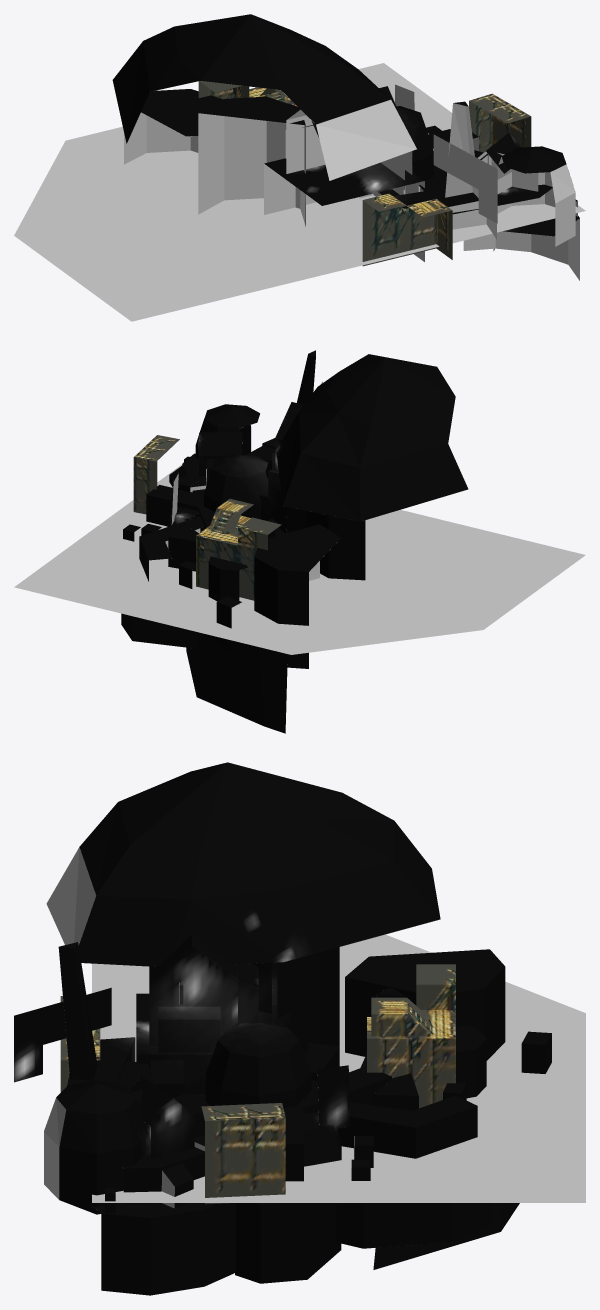
File: T_Hospital_01.fbx
3 renders of one model, top to bottom at view 1: azimuth 30°, elevation 25°; view 2: azimuth 150°, elevation 25°; view 3: azimuth 270°, elevation 25°, orthographic. The views are drawn at different scales.
Parts seen in each view (by area): view 1: T_Hospital_01, FX_Territory_NightGlow, T_BuildForm_03, T_BuildForm_02 (2), T_BuildForm_01; view 2: FX_Territory_NightGlow, T_Hospital_01, T_BuildForm_01, T_BuildForm_02 (2); view 3: FX_Territory_NightGlow, T_Hospital_01, T_BuildForm_01, T_BuildForm_02 (2).
Part boxes in pixels (x1=…): T_Hospital_01: x1=14, y1=63, x2=585, y2=321; FX_Territory_NightGlow: x1=112, y1=14, x2=579, y2=250; T_BuildForm_03: x1=362, y1=193, x2=452, y2=266; T_BuildForm_02 (2): x1=469, y1=93, x2=531, y2=152; T_BuildForm_01: x1=198, y1=81, x2=297, y2=106; FX_Territory_NightGlow: x1=121, y1=350, x2=468, y2=733; T_Hospital_01: x1=14, y1=359, x2=585, y2=724; T_BuildForm_01: x1=196, y1=498, x2=281, y2=600; T_BuildForm_02 (2): x1=133, y1=435, x2=179, y2=514; FX_Territory_NightGlow: x1=14, y1=762, x2=551, y2=1295; T_Hospital_01: x1=44, y1=847, x2=585, y2=1208; T_BuildForm_01: x1=367, y1=964, x2=455, y2=1108; T_BuildForm_02 (2): x1=201, y1=1103, x2=285, y2=1204.
Bounding box in the file's own units: 18.48 × 12.78 × 16.27.
